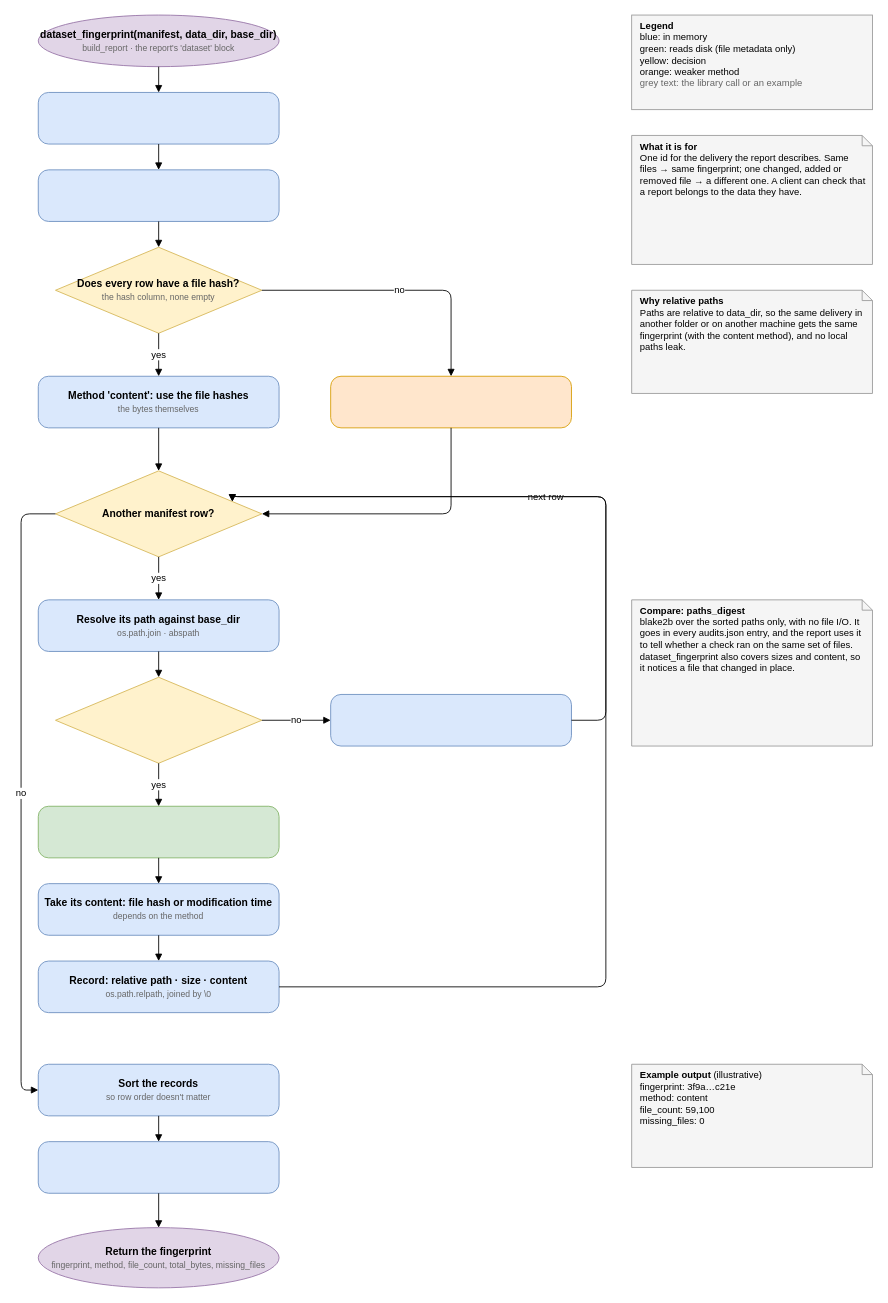
Image size: 888x1303. Some labels were removed from this diagram. Here are the shapes that lost their labels. From the top down, the centre of each, then its label:
At (158,118): "Default base_dir to the current folder os.getcwd".
At (158,195): "Make data_dir absolute os.path.abspath".
At (450,401): "Method 'size_mtime': use modification times a copied folder gets new times".
At (158,719): "Does the file still exist? os.stat".
At (450,720): "Count it as missing and leave it out missing_files".
At (158,831): "Add its size to the total st_size → total_bytes".
At (158,1167): "Hash them in that order hashlib.blake2b · 16 bytes".
